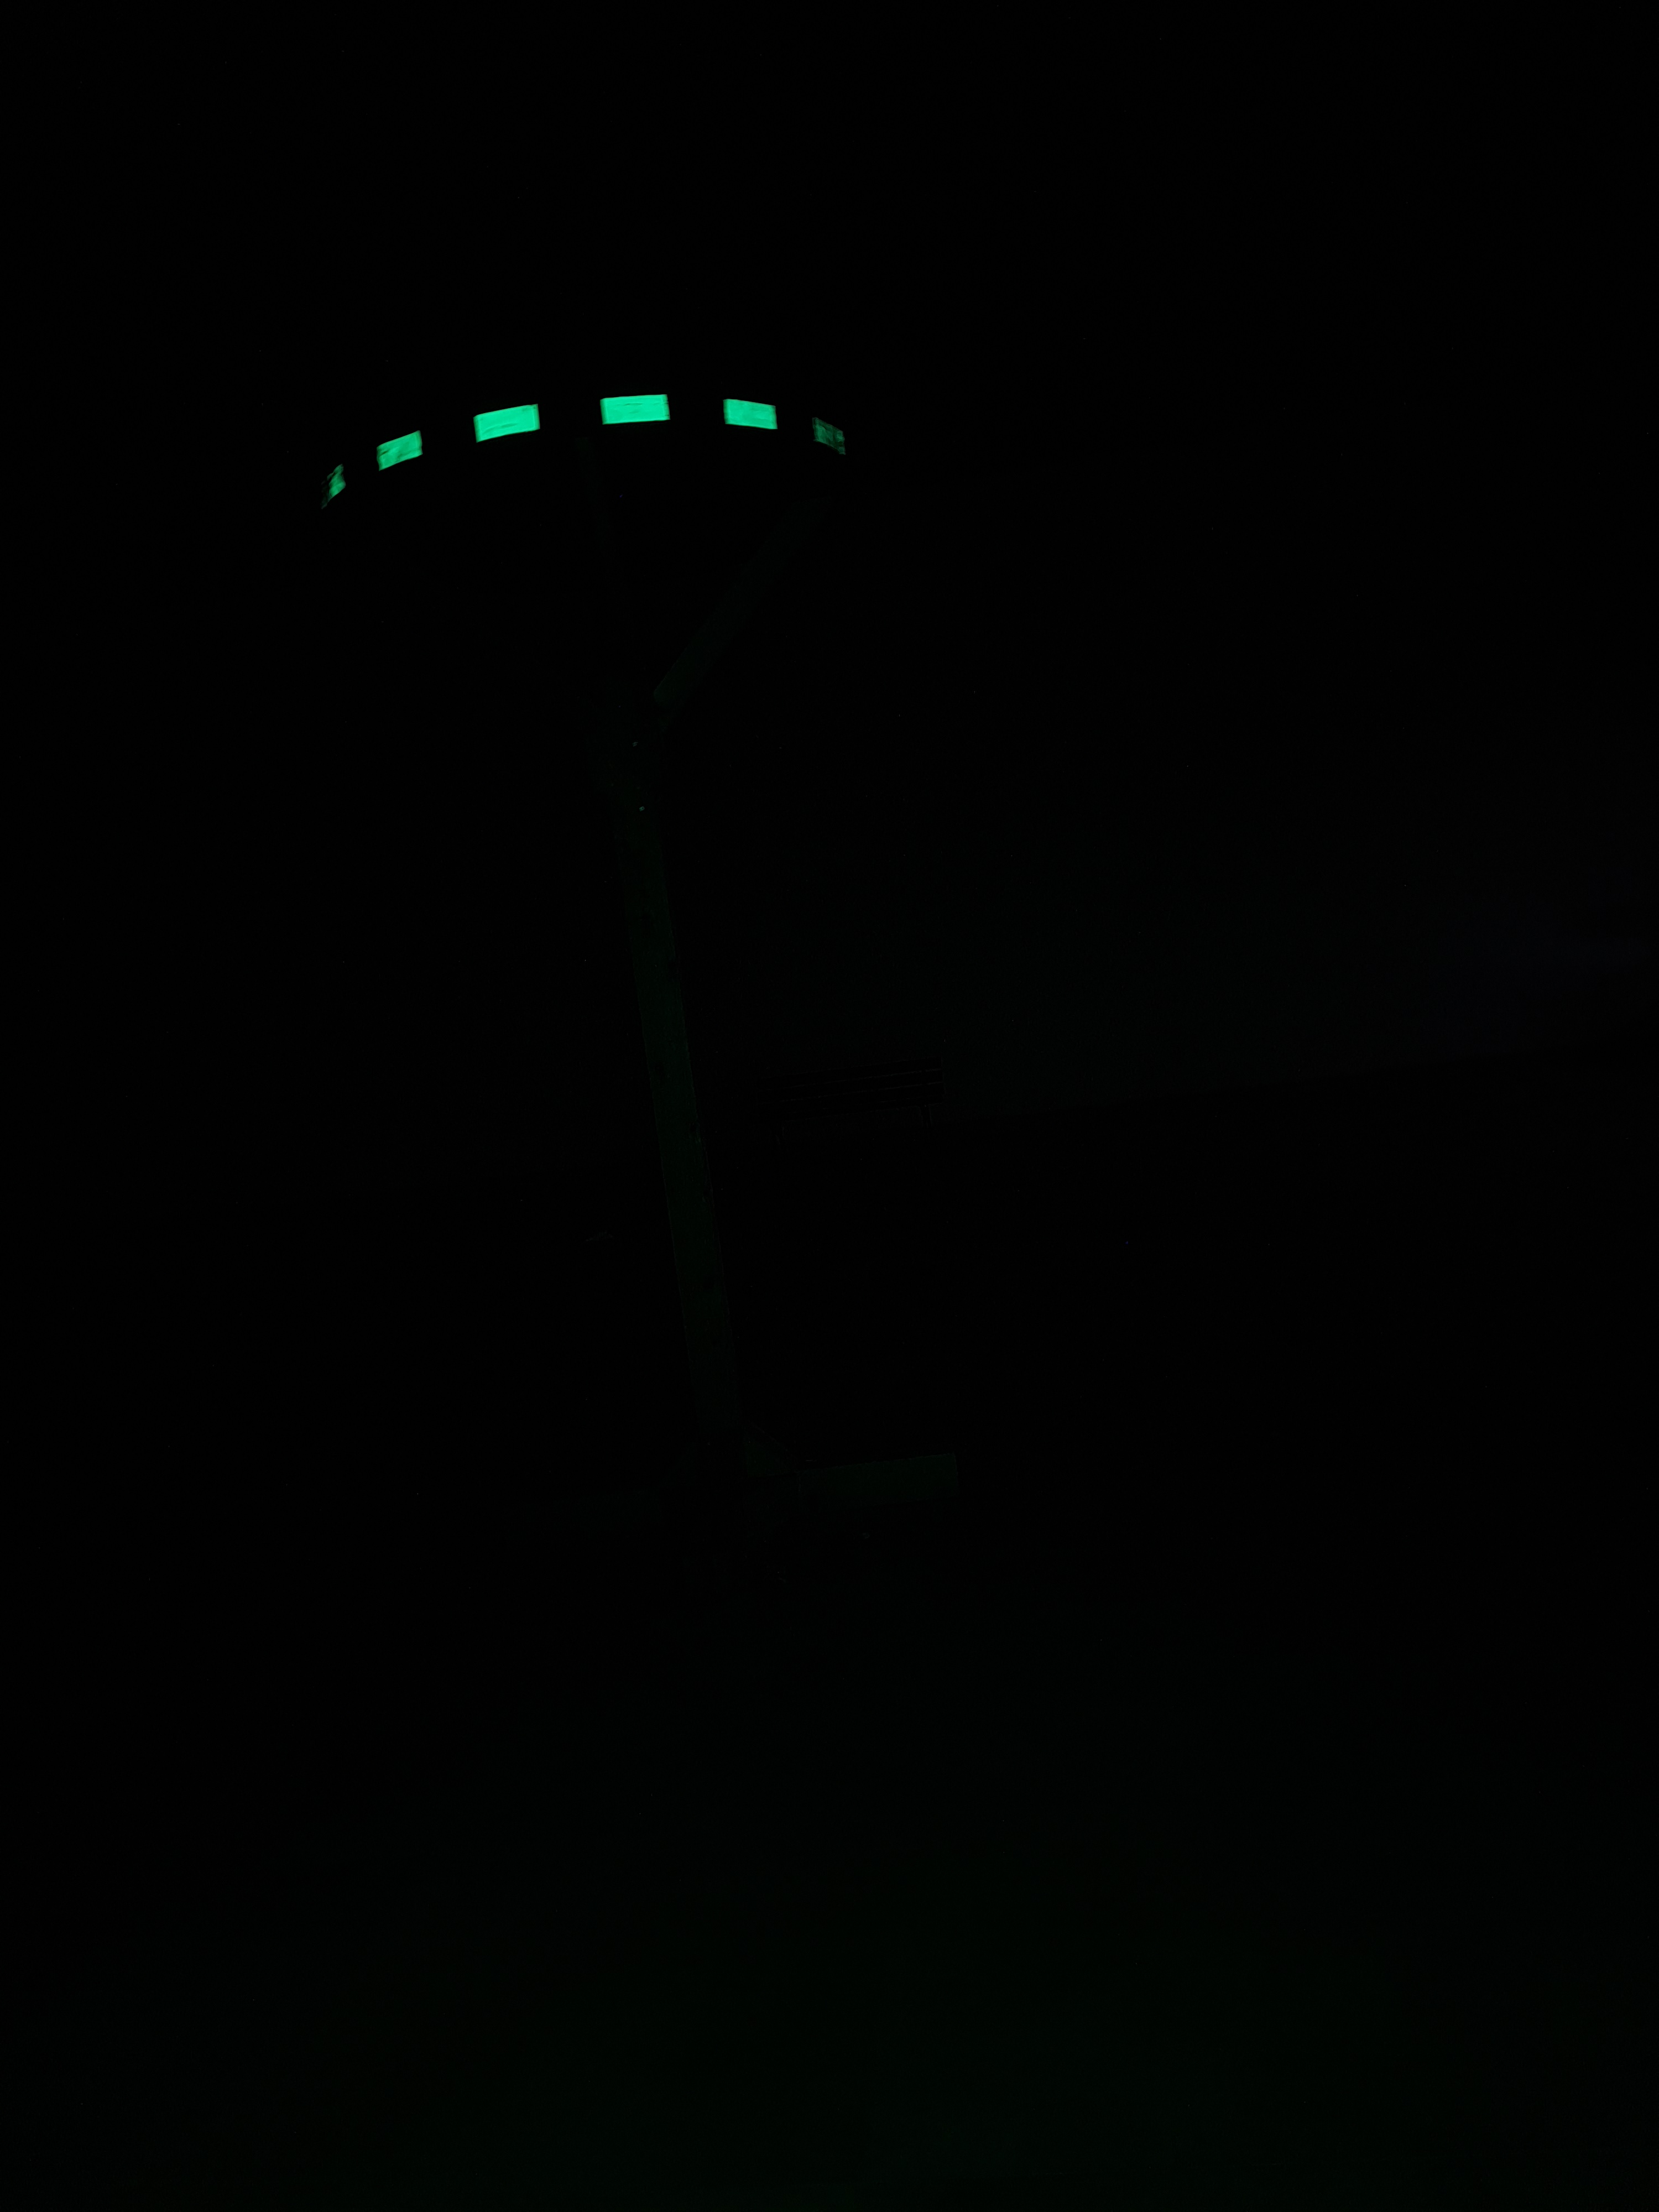hoop: (308, 387, 850, 519)
